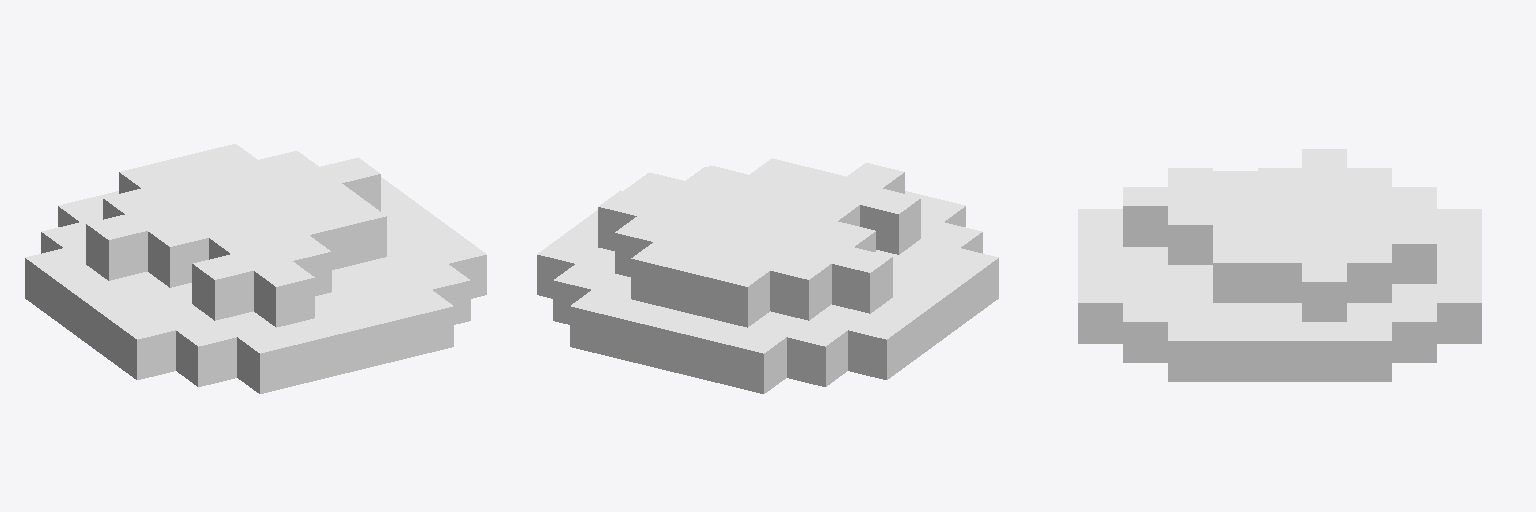
Rendered from LifeObject3.obj.
The picture shows the model from 3 angles: view 1: azimuth 30°, elevation 25°; view 2: azimuth 150°, elevation 25°; view 3: azimuth 270°, elevation 25°; orthographic projection.
Parts seen in each view (by area): view 1: ObjObject.009; view 2: ObjObject.009; view 3: ObjObject.009.
Part boxes in pixels (left/top/right/bottom): ObjObject.009: left=25, top=144, right=486, bottom=393; ObjObject.009: left=537, top=158, right=998, bottom=393; ObjObject.009: left=1078, top=149, right=1481, bottom=381.
Size of the model in its own units: 0.9 by 0.2 by 0.9.